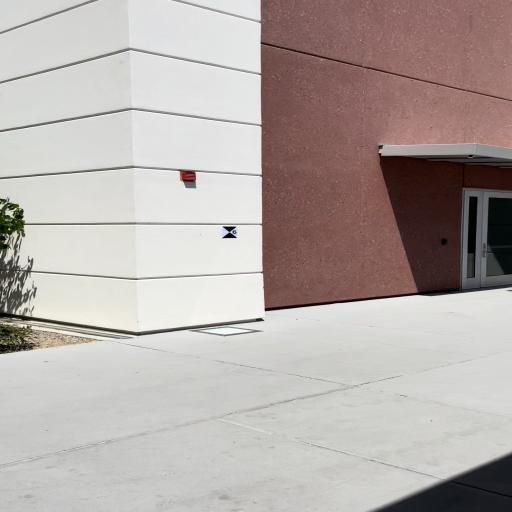target6: (221, 227, 237, 238)
